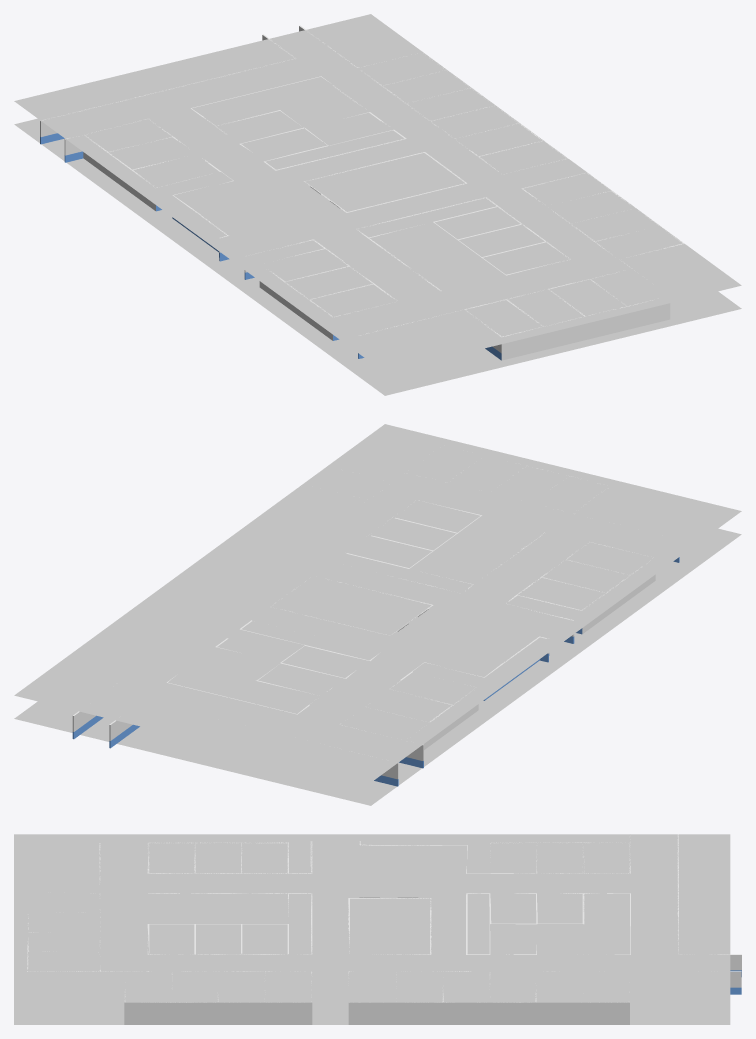
File: Hospital Main.fbx
The picture shows the model from 3 angles, top to bottom: view 1: azimuth 30°, elevation 25°; view 2: azimuth 150°, elevation 25°; view 3: azimuth 270°, elevation 25°; orthographic projection. The views are drawn at different scales.
Parts seen in each view (by area): view 1: Roof, Floor, Walls; view 2: Roof, Floor, Walls; view 3: Roof, Walls, Floor.
Boxes of the visible parts, <box> form: Roof: <box>14,14,741,372</box>; Floor: <box>14,118,741,395</box>; Walls: <box>40,25,684,360</box>; Roof: <box>14,424,741,782</box>; Floor: <box>14,528,741,805</box>; Walls: <box>72,468,679,786</box>; Roof: <box>14,834,730,1002</box>; Walls: <box>27,834,741,1024</box>; Floor: <box>14,1002,730,1024</box>.
Bounding box in the file's own units: 5011 × 319 × 9148.
